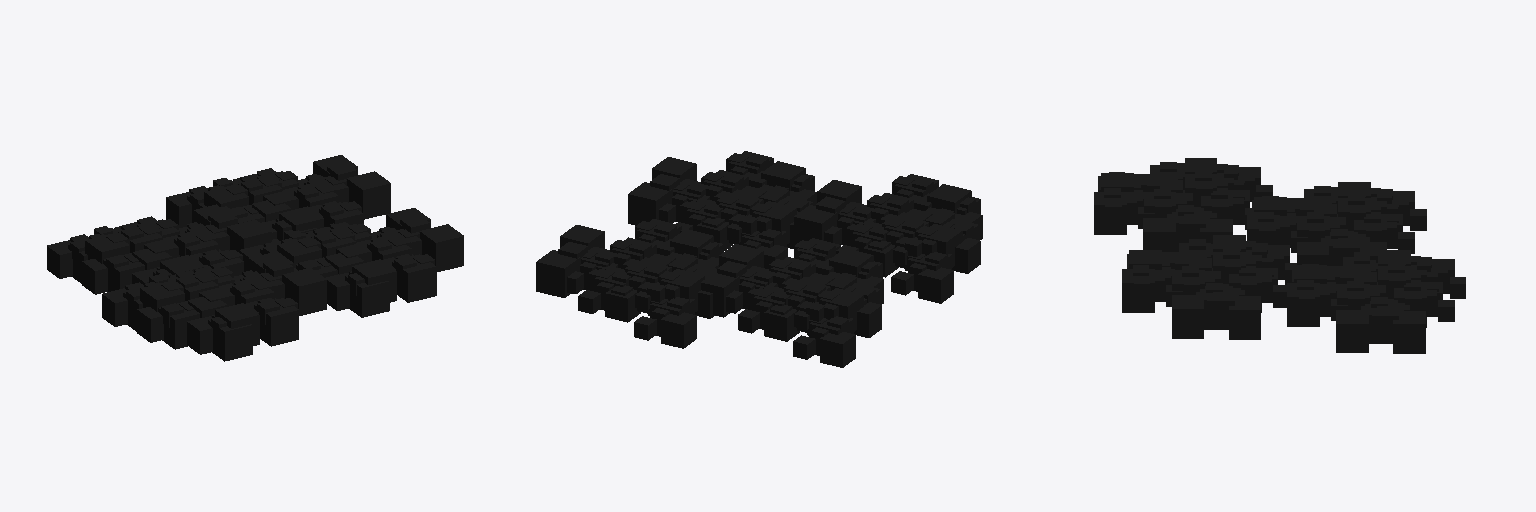
The model's file is ground.obj.
The picture shows the model from 3 angles: view 1: azimuth 30°, elevation 25°; view 2: azimuth 150°, elevation 25°; view 3: azimuth 270°, elevation 25°; orthographic projection.
Parts seen in each view (by area): view 1: Cube_260, Cube_078, Cube_142, Cube_067, Cube_250, Cube_244, Cube_061, Cube_201, Cube_257, Cube_075, Cube_232, Cube_233 (+13 smaller); view 2: Cube_140, Cube_076, Cube_258, Cube_115, Cube_174, Cube_233, Cube_199, Cube_156, Cube_097, Cube_257, Cube_075, Cube_198 (+11 smaller); view 3: Cube_142, Cube_078, Cube_140, Cube_076, Cube_260, Cube_067, Cube_132, Cube_250, Cube_201, Cube_075, Cube_141, Cube_257 (+4 smaller).
Boxes of the visible parts, x1=… form: Cube_260: x1=282, y1=268, x2=326, y2=315; Cube_078: x1=420, y1=224, x2=463, y2=271; Cube_142: x1=347, y1=171, x2=390, y2=219; Cube_067: x1=392, y1=254, x2=436, y2=302; Cube_250: x1=254, y1=298, x2=298, y2=346; Cube_244: x1=208, y1=319, x2=252, y2=361; Cube_061: x1=345, y1=276, x2=389, y2=317; Cube_201: x1=227, y1=220, x2=271, y2=251; Cube_257: x1=215, y1=303, x2=259, y2=345; Cube_075: x1=352, y1=259, x2=396, y2=302; Cube_232: x1=158, y1=301, x2=199, y2=349; Cube_233: x1=102, y1=288, x2=127, y2=326; Cube_140: x1=536, y1=250, x2=580, y2=297; Cube_076: x1=628, y1=182, x2=672, y2=225; Cube_258: x1=794, y1=205, x2=838, y2=245; Cube_115: x1=661, y1=312, x2=696, y2=348; Cube_174: x1=820, y1=332, x2=855, y2=367; Cube_233: x1=918, y1=267, x2=953, y2=303; Cube_199: x1=701, y1=270, x2=739, y2=317; Cube_156: x1=764, y1=309, x2=799, y2=341; Cube_097: x1=605, y1=289, x2=640, y2=322; Cube_257: x1=927, y1=184, x2=971, y2=213; Cube_075: x1=761, y1=161, x2=805, y2=190; Cube_198: x1=829, y1=248, x2=873, y2=277; Cube_142: x1=1336, y1=310, x2=1368, y2=352; Cube_078: x1=1172, y1=295, x2=1203, y2=338; Cube_140: x1=1393, y1=311, x2=1425, y2=353; Cube_076: x1=1229, y1=296, x2=1260, y2=339; Cube_260: x1=1143, y1=218, x2=1175, y2=251; Cube_067: x1=1122, y1=269, x2=1154, y2=312; Cube_132: x1=1287, y1=283, x2=1319, y2=326; Cube_250: x1=1094, y1=192, x2=1126, y2=234; Cube_201: x1=1297, y1=242, x2=1328, y2=265; Cube_075: x1=1129, y1=250, x2=1161, y2=269; Cube_141: x1=1377, y1=306, x2=1398, y2=335; Cube_257: x1=1101, y1=173, x2=1133, y2=191.
Size of the model in its own units: 2595 by 454 by 2559.